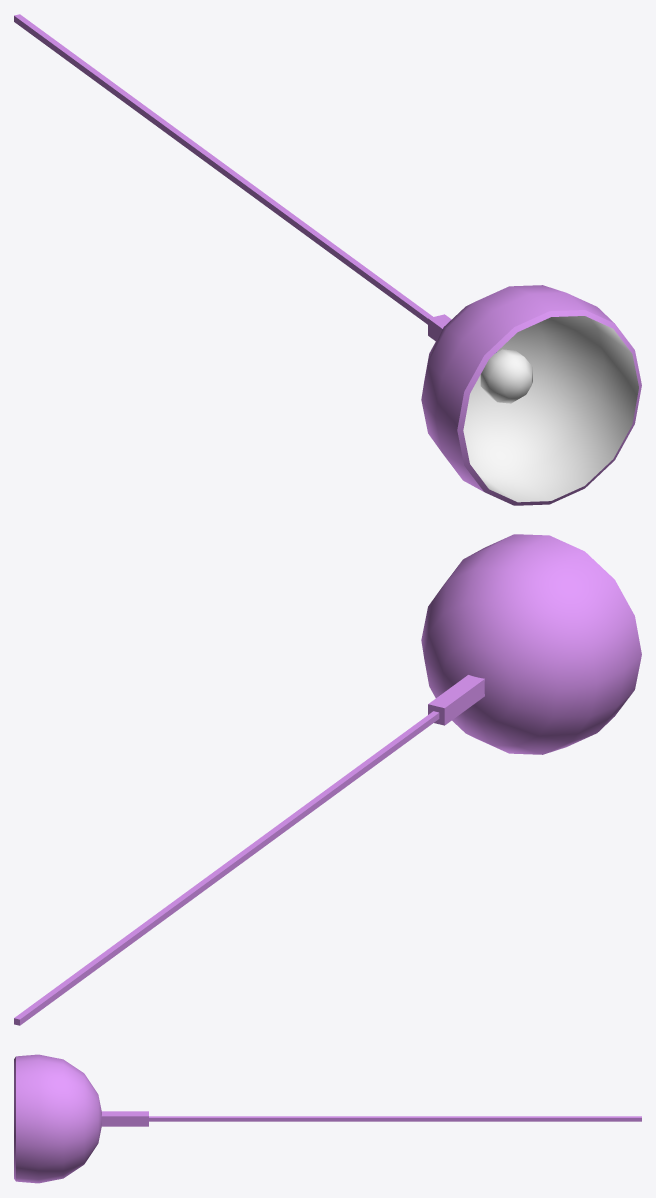
Rendered from light_ceiling_001.FBX.
3 renders of one model, top to bottom at view 1: azimuth 30°, elevation 25°; view 2: azimuth 150°, elevation 25°; view 3: azimuth 270°, elevation 25°, orthographic. The views are drawn at different scales.
Visible parts, largest first — view 1: light_ceiling_001; view 2: light_ceiling_001; view 3: light_ceiling_001.
Part boxes in pixels (x1,y1,x2,y2): light_ceiling_001: (14,14,641,505); light_ceiling_001: (14,534,641,1025); light_ceiling_001: (14,1054,641,1183).
Bounding box in the file's own units: 60 × 60 × 292.
